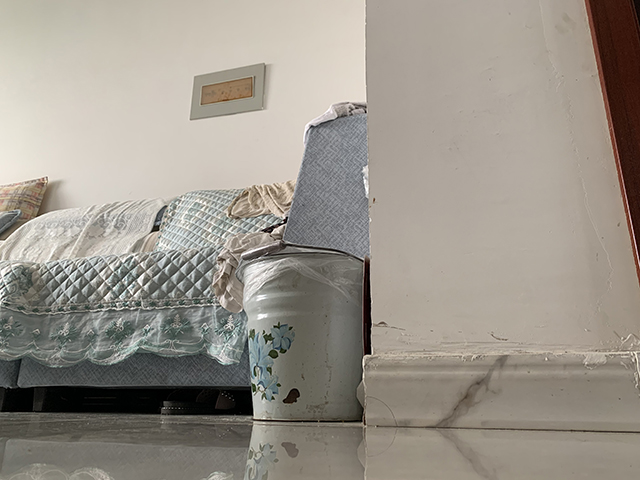sofa: (1, 111, 370, 412)
trashcan: (235, 247, 367, 423)
